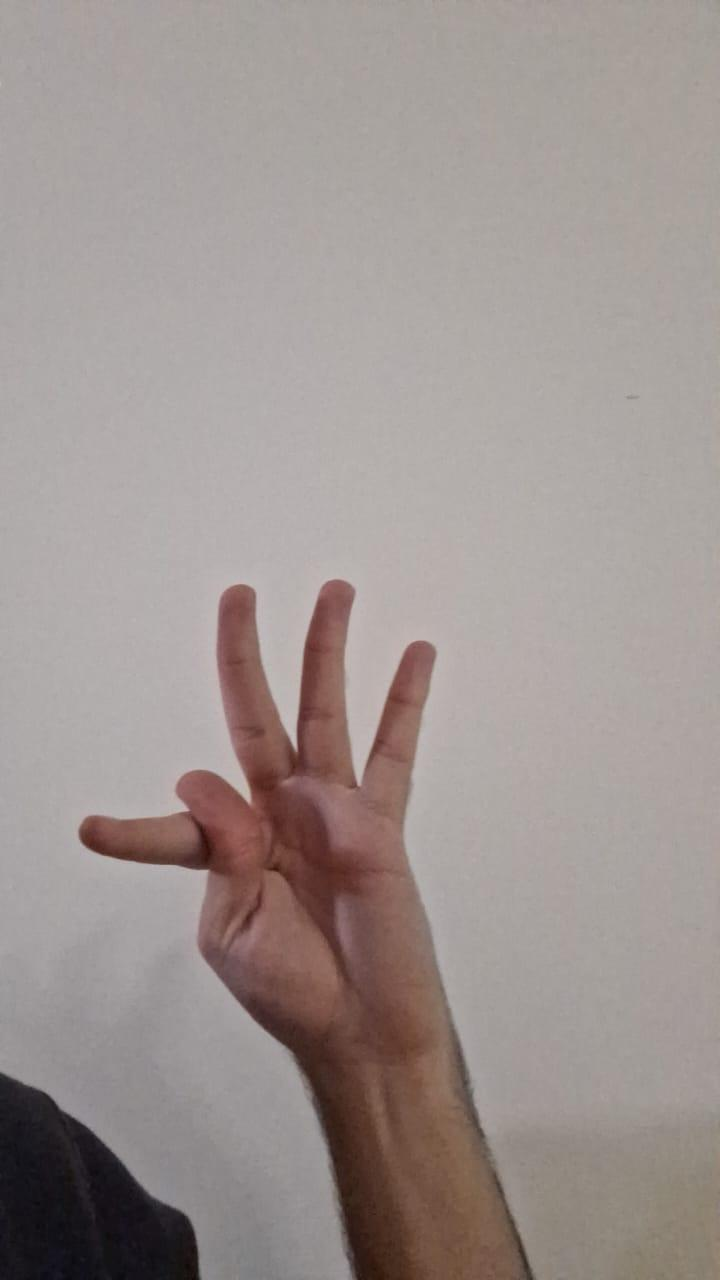T: (70, 573, 443, 1023)
